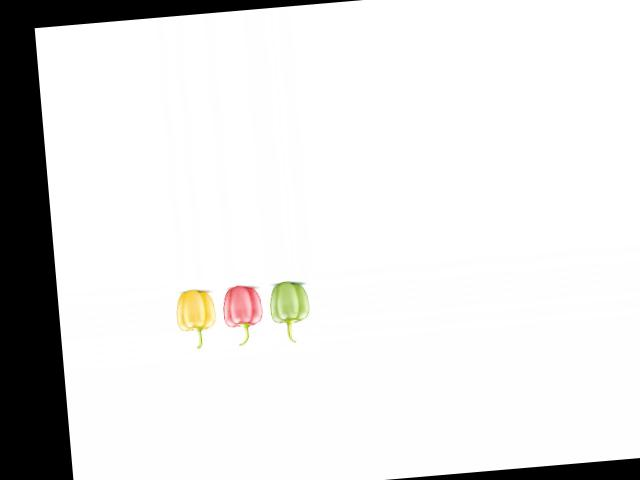bell_pepper: (268, 276, 316, 344)
